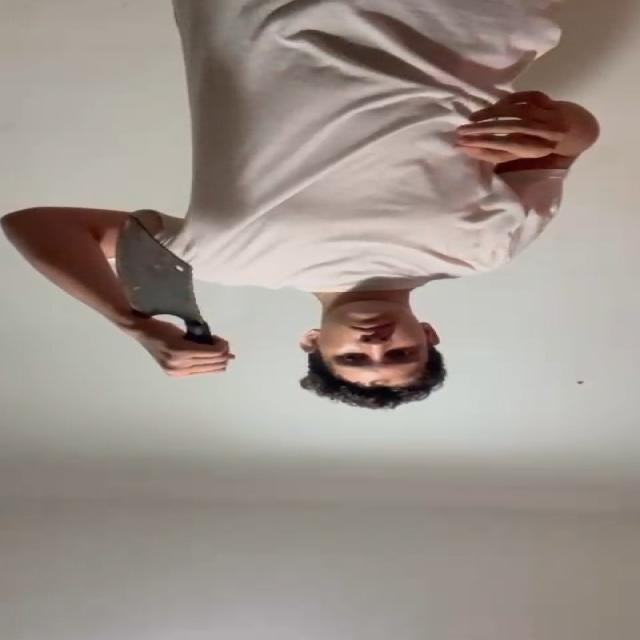knife: (109, 224, 200, 326)
